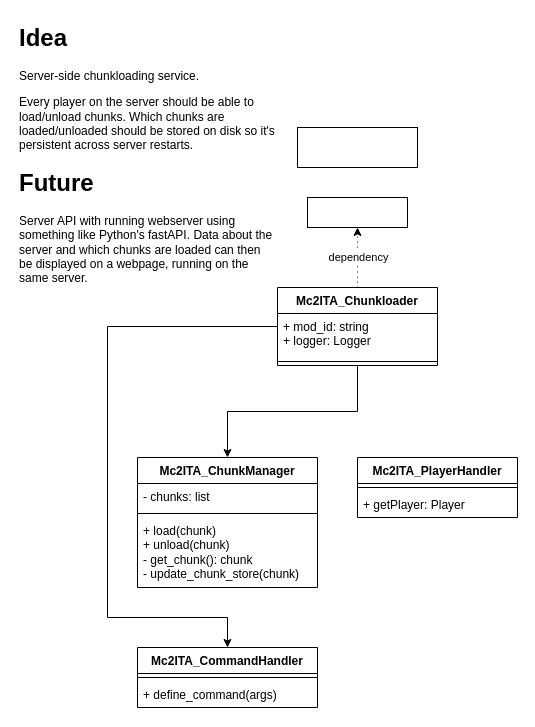
Image size: 535x727. Some labels were removed from this diagram. Here are the shapes that lost their labels. From the top down, the centre of each, then its label:
At point 357,147: "2ITA Chunkloader".
At point 357,212: "org.slf4j.Logger".
